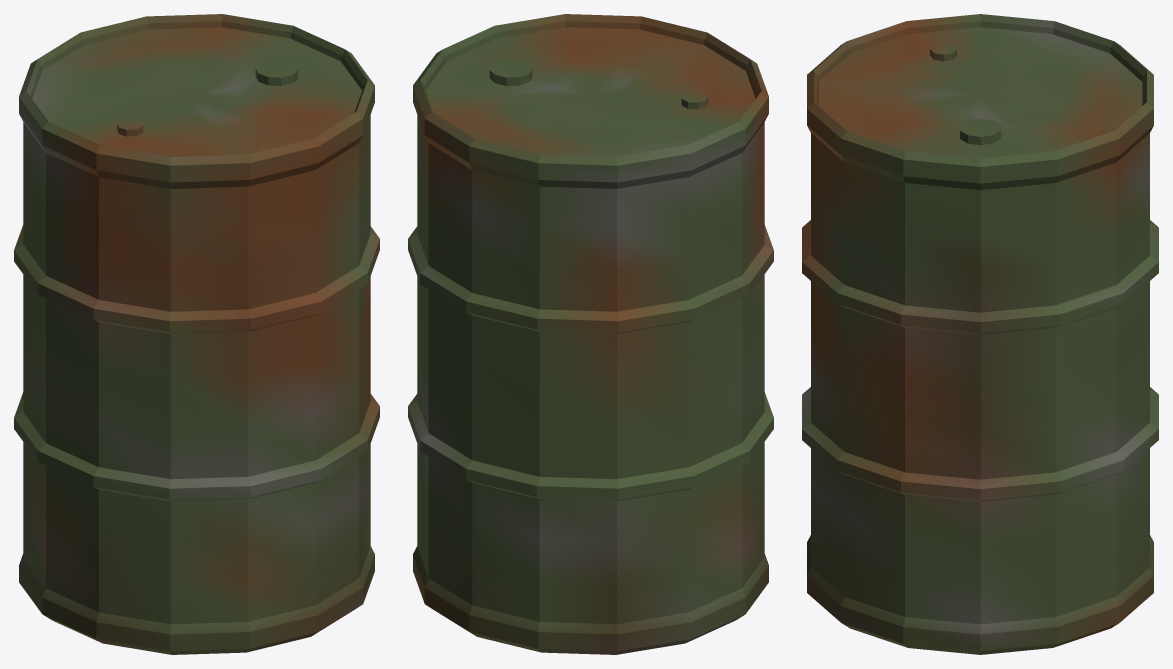
File: rusty_barrel_01.glb
3 views of the same model, side by side, from view 1: azimuth 30°, elevation 25°; view 2: azimuth 150°, elevation 25°; view 3: azimuth 270°, elevation 25° (orthographic).
Visible parts, largest first — view 1: rusty_barrel_01_body; view 2: rusty_barrel_01_body; view 3: rusty_barrel_01_body.
Boxes of the visible parts, x1=… form: rusty_barrel_01_body: x1=14, y1=14, x2=379, y2=654; rusty_barrel_01_body: x1=408, y1=14, x2=773, y2=654; rusty_barrel_01_body: x1=802, y1=14, x2=1158, y2=654.
Size of the model in its own units: 0.596 by 0.895 by 0.5811.
